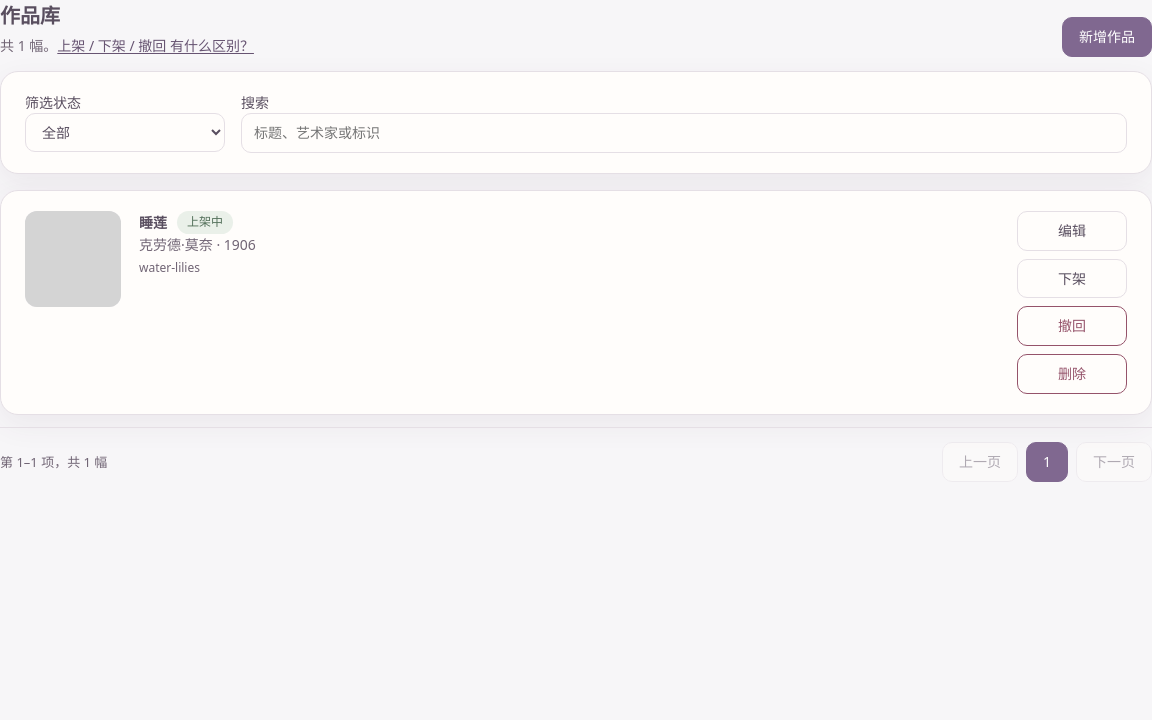
作品库 › 后端返回 409 时把中文原因显示出来
Click the button "删除" at x=1072, y=374, box [1017,354,1127,394]
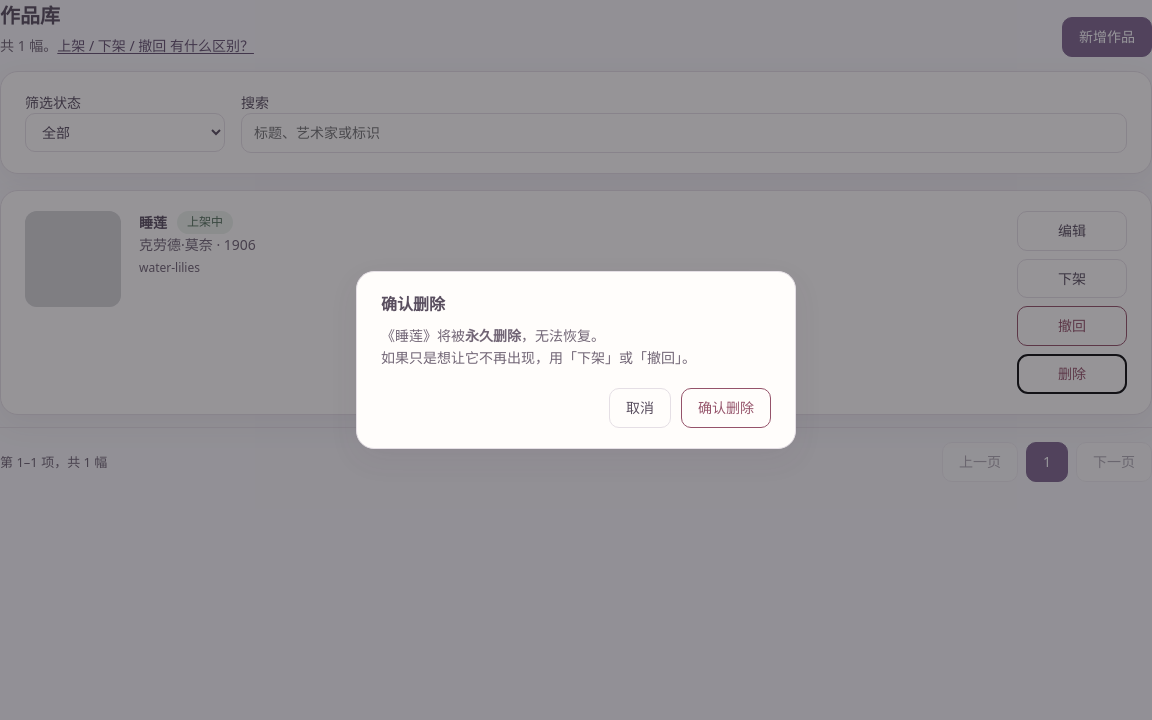
Click the button "确认删除" at x=726, y=408, box [681,388,771,428]
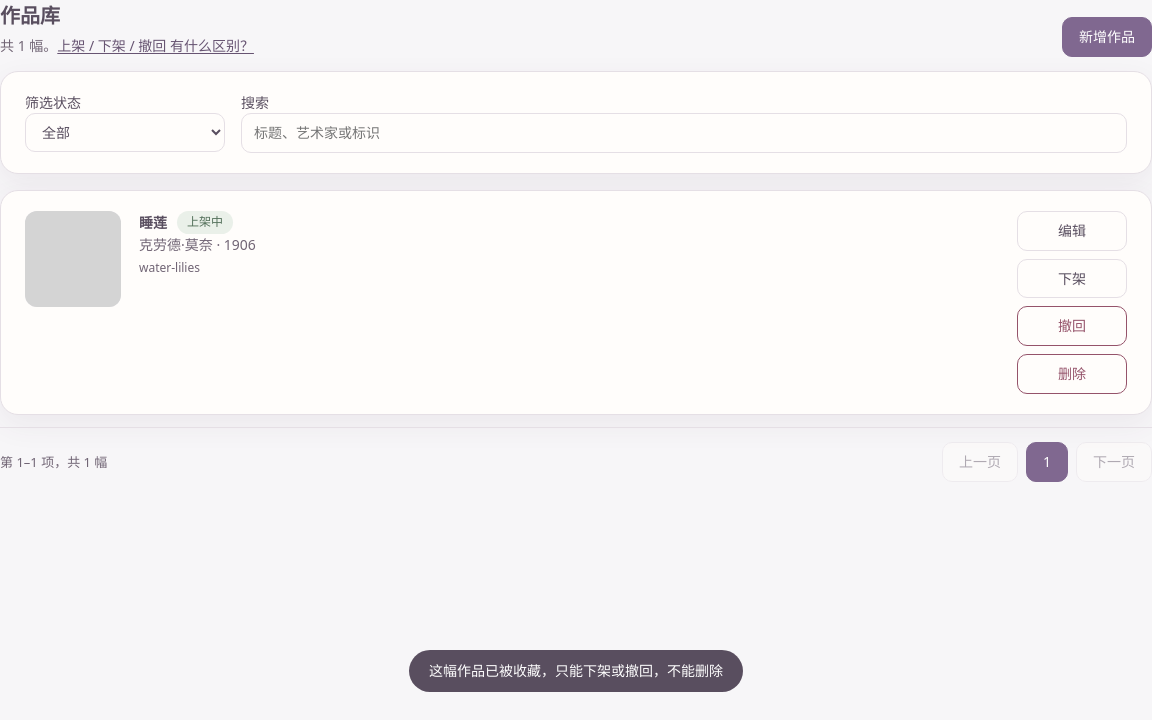
Now the message shows "只能下架或撤回", box [429,661,723,680]
